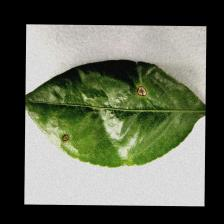canker: (39, 79, 176, 165)
